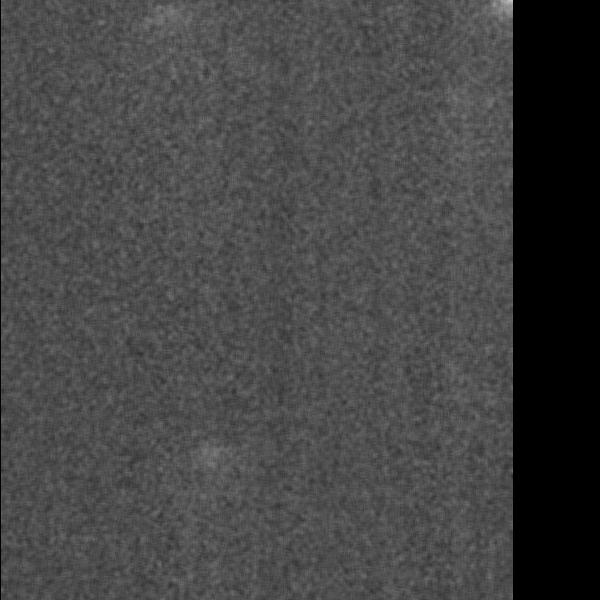spark: (141, 1, 194, 67), (201, 442, 247, 482)
